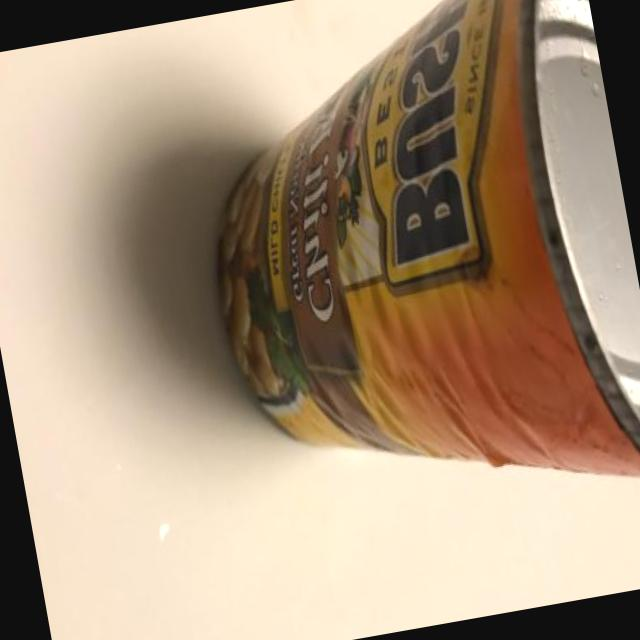metal: (535, 0, 639, 421)
